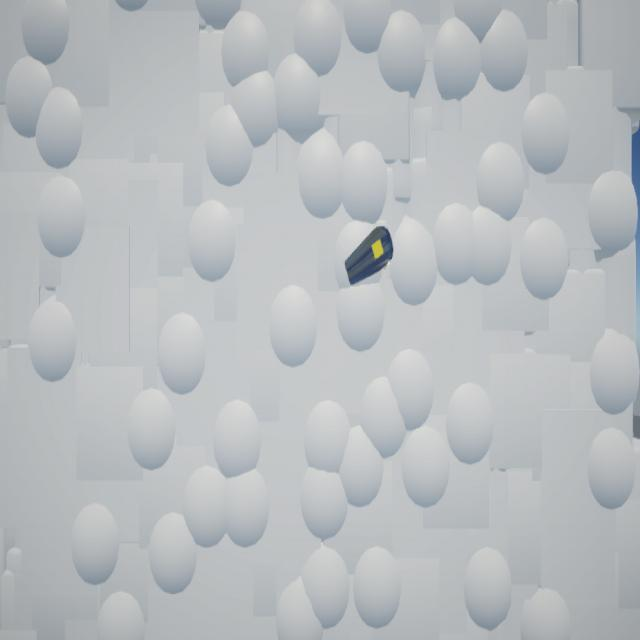handle_folk: (345, 228, 395, 288)
